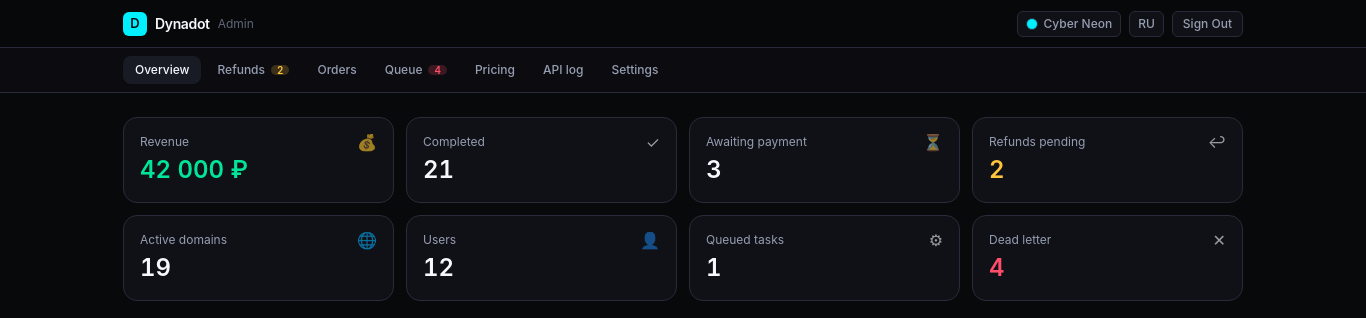
Test: refunds › lists pending refunds with their reason
Click the button "Refunds 2" at [254, 70], box [206,56,302,84]
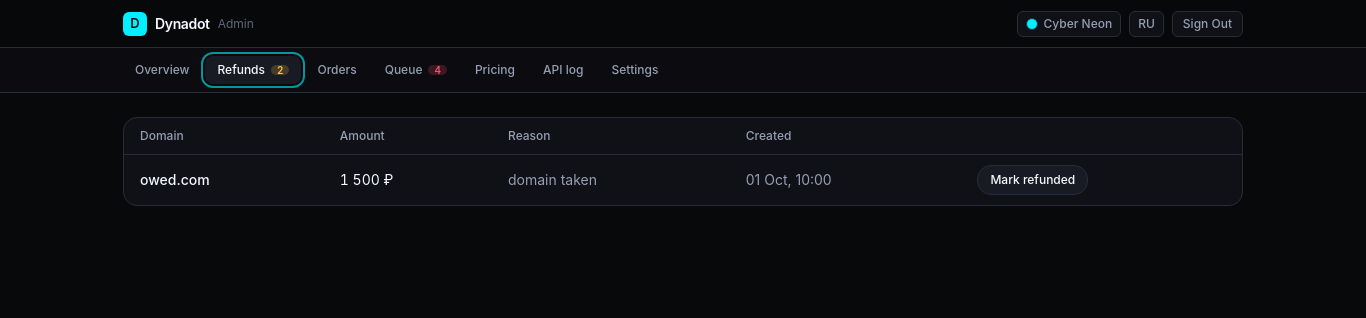
Expected: the text "owed.com" is shown, [140,171,210,188]
Expected: the text "domain taken" is shown, [508,171,597,188]
Expected: the text "1 500 ₽" is shown, [340,171,394,188]
